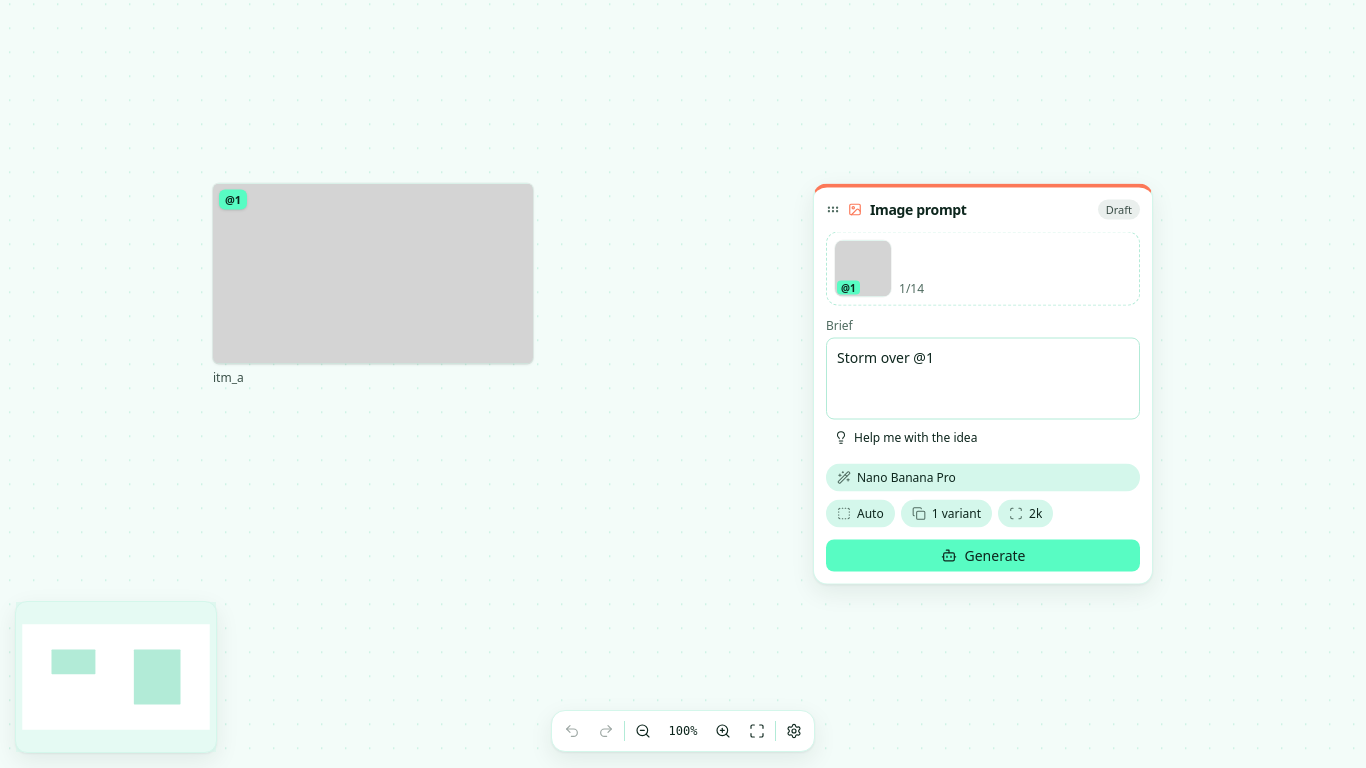
Scenario: Prompt cards › queues a draft prompt and copies its instruction
Click the button with test id "prompt-generate" at (983, 556), box top-left (826, 540), bottom-right (1140, 572)
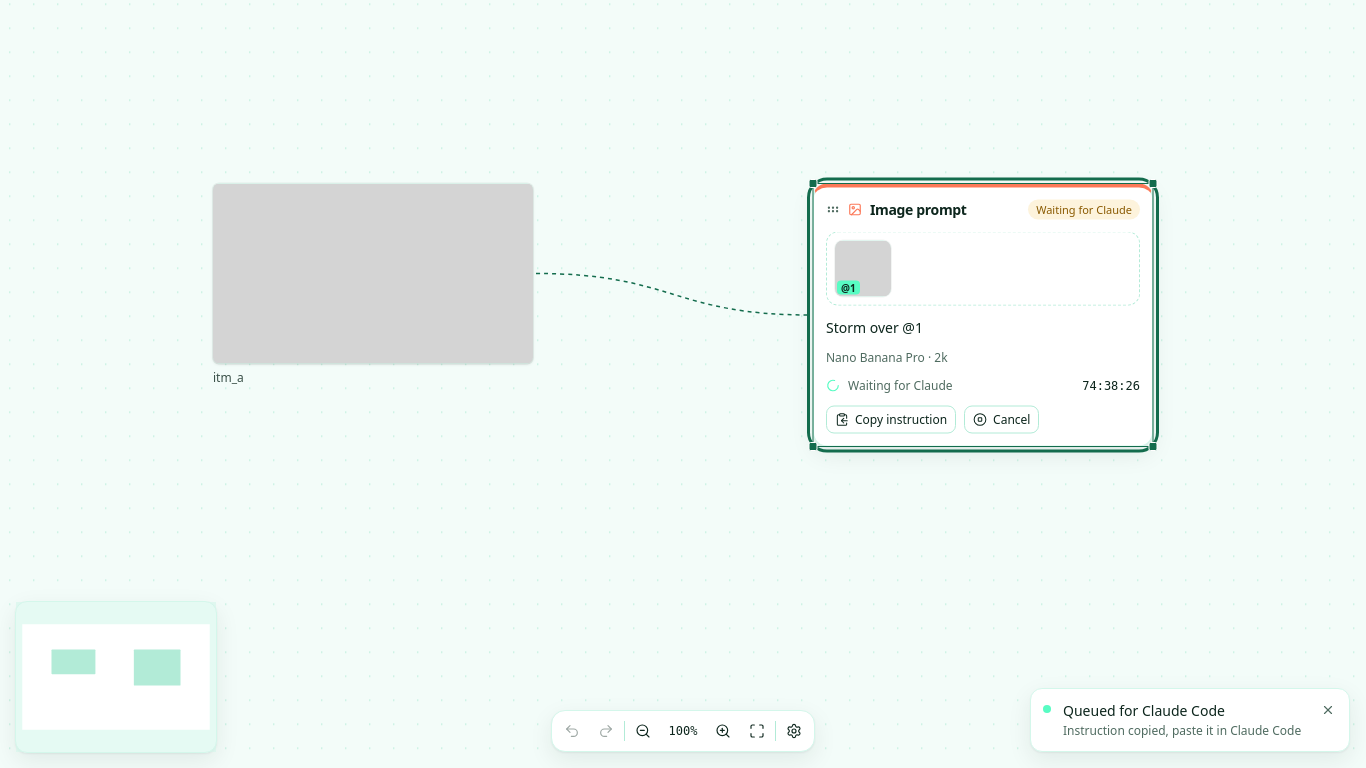
Now the heading "Queued for Claude Code" is shown, box top-left (1063, 701), bottom-right (1225, 720)
Click the button with test id "prompt-copy" at (891, 420), box top-left (826, 406), bottom-right (956, 434)
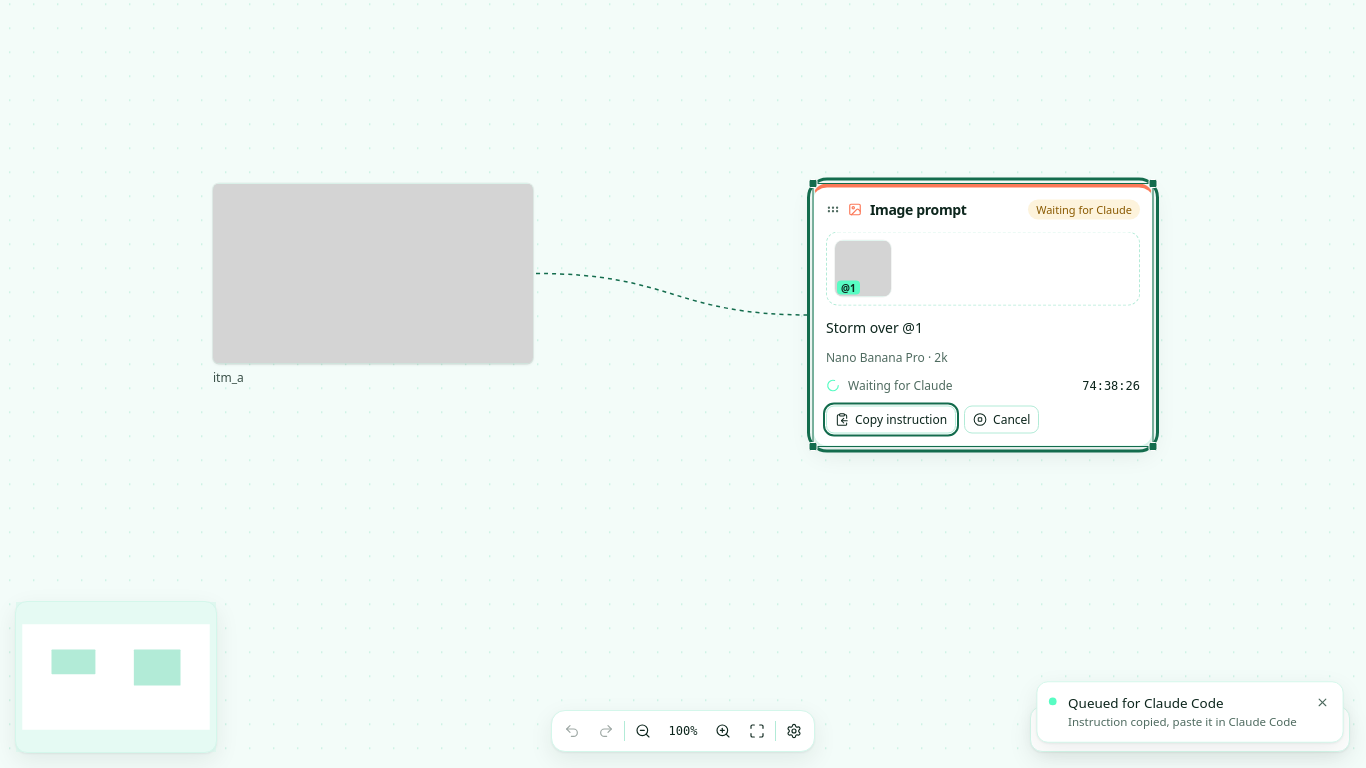
Now the heading "Instruction copied" is shown, box top-left (1063, 719), bottom-right (1183, 738)
